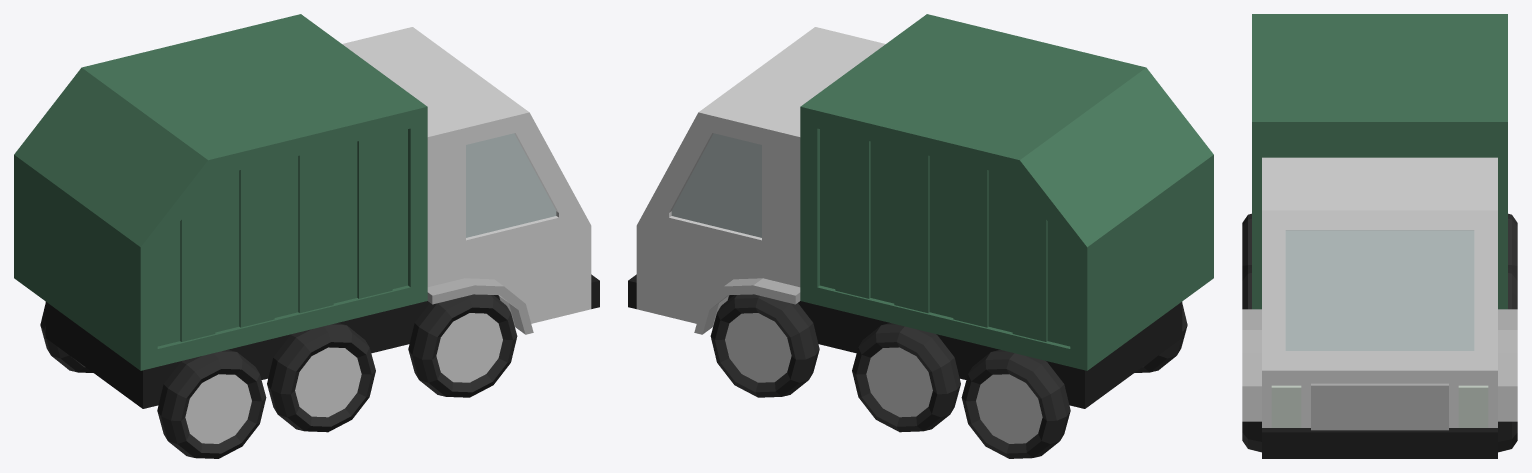
Rendered from truck.fbx.
The picture shows the model from 3 angles, left to right: view 1: azimuth 30°, elevation 25°; view 2: azimuth 150°, elevation 25°; view 3: azimuth 270°, elevation 25°; orthographic projection.
Visible parts, largest first — view 1: Cube, Torus.003, Torus.005, Torus.004, Torus.002; view 2: Cube, Torus.002, Torus.001, Torus.000, Torus.005; view 3: Cube, Torus.000, Torus.004, Torus.002, Torus.005, Torus.001, Torus.003.
Boxes of the visible parts, x1,y1,x2,y2 form: Cube: [14, 14, 599, 408]; Torus.003: [267, 323, 375, 432]; Torus.005: [157, 350, 266, 458]; Torus.004: [408, 294, 517, 397]; Torus.002: [40, 304, 92, 372]; Cube: [628, 14, 1213, 408]; Torus.002: [961, 350, 1070, 458]; Torus.001: [852, 323, 960, 432]; Torus.000: [710, 294, 819, 397]; Torus.005: [1135, 304, 1187, 372]; Cube: [1242, 14, 1517, 458]; Torus.000: [1498, 421, 1517, 452]; Torus.004: [1242, 421, 1261, 452]; Torus.002: [1508, 213, 1517, 276]; Torus.005: [1242, 213, 1251, 276]; Torus.001: [1508, 268, 1517, 309]; Torus.003: [1242, 268, 1251, 309].
Bounding box in the file's own units: 550 × 343 × 280.
